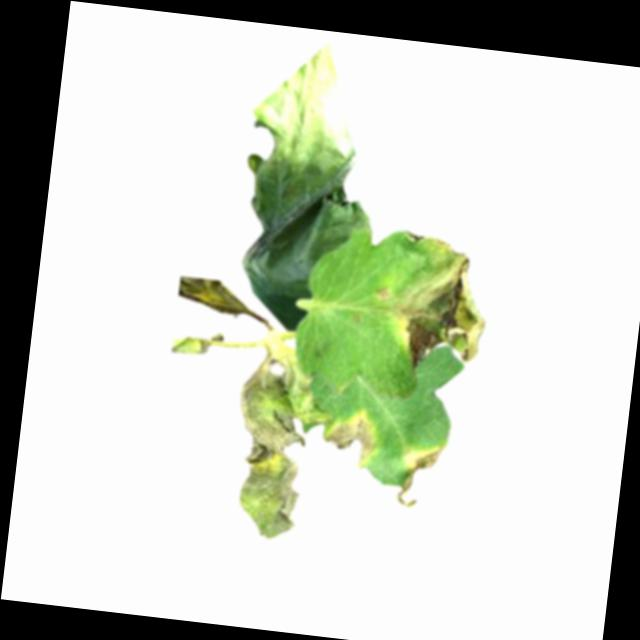Late_blight: (223, 33, 388, 338), (226, 344, 332, 542), (390, 232, 495, 376), (392, 442, 446, 510), (320, 413, 379, 470)
